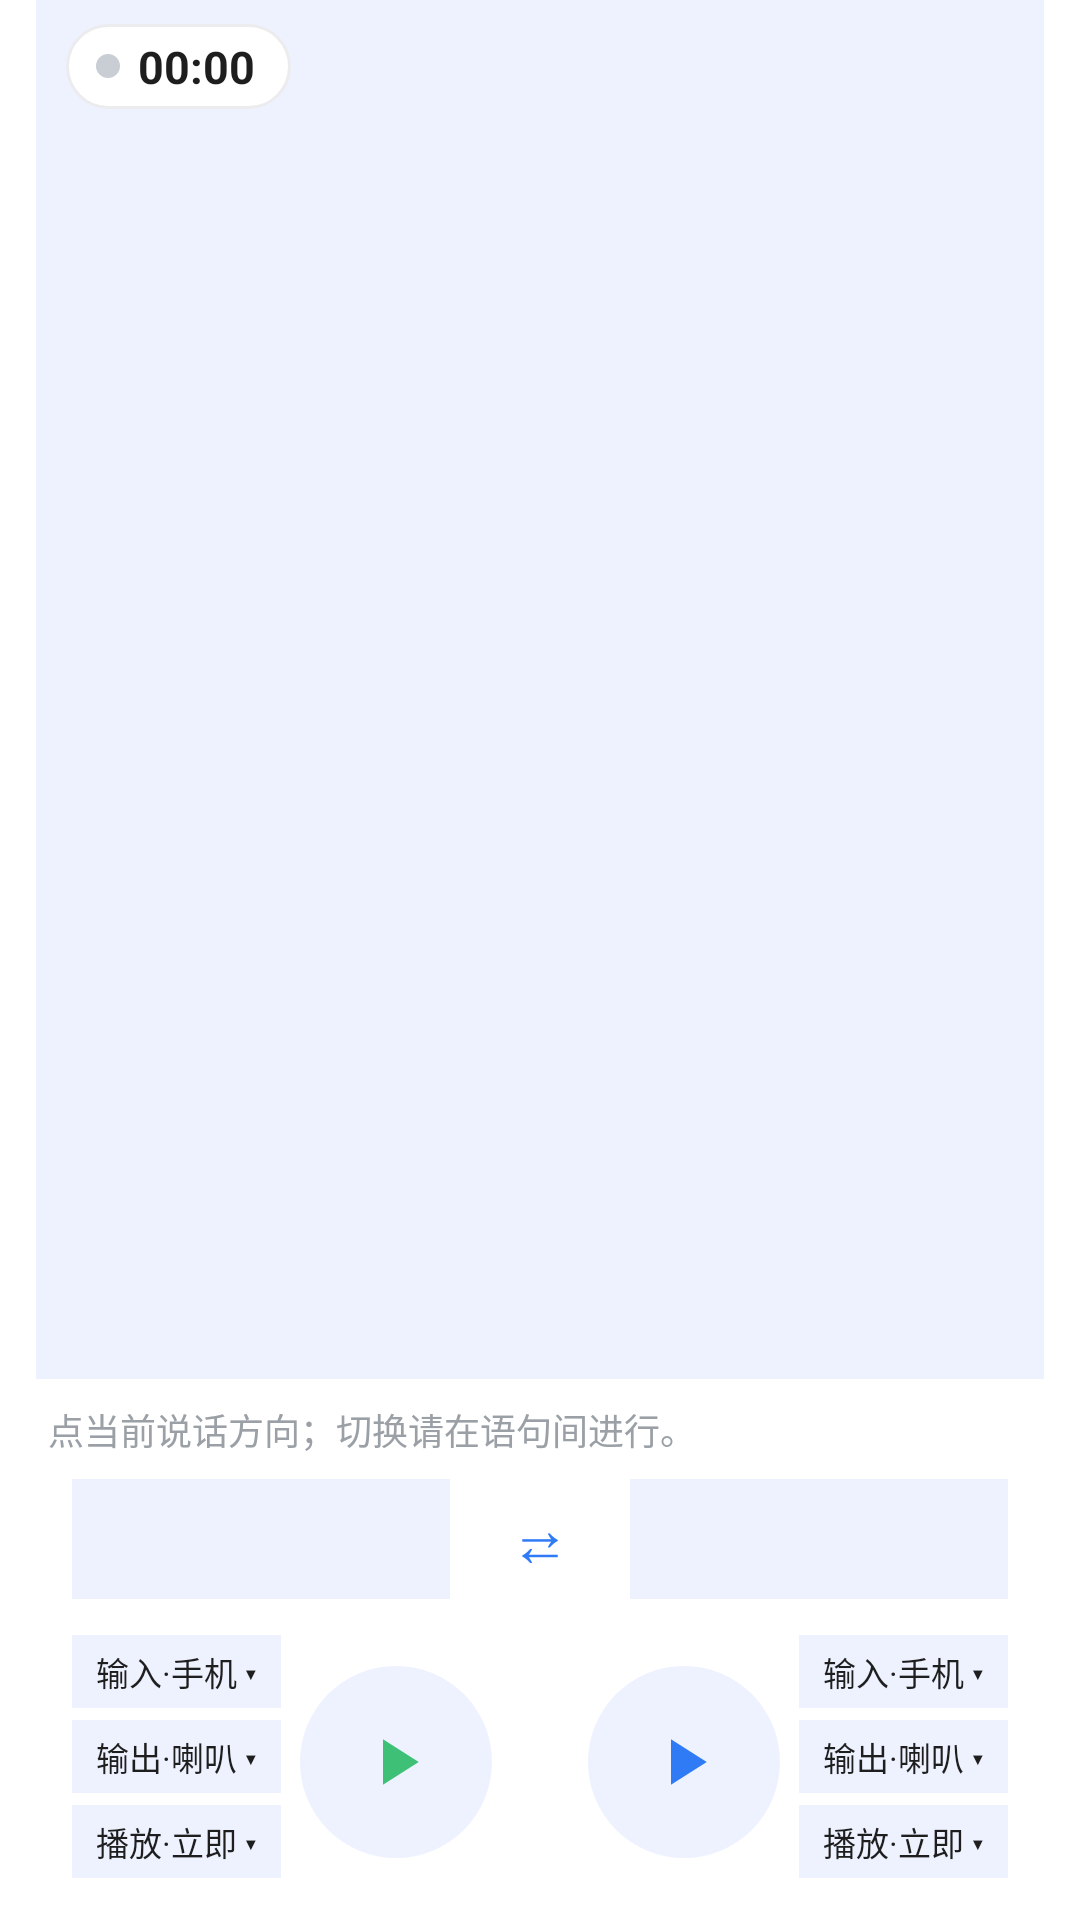

Icon click points for this 1080x1920 phone screenshot, format (x=x, y=y):
开始: (x=401, y=1762), (x=689, y=1762)
